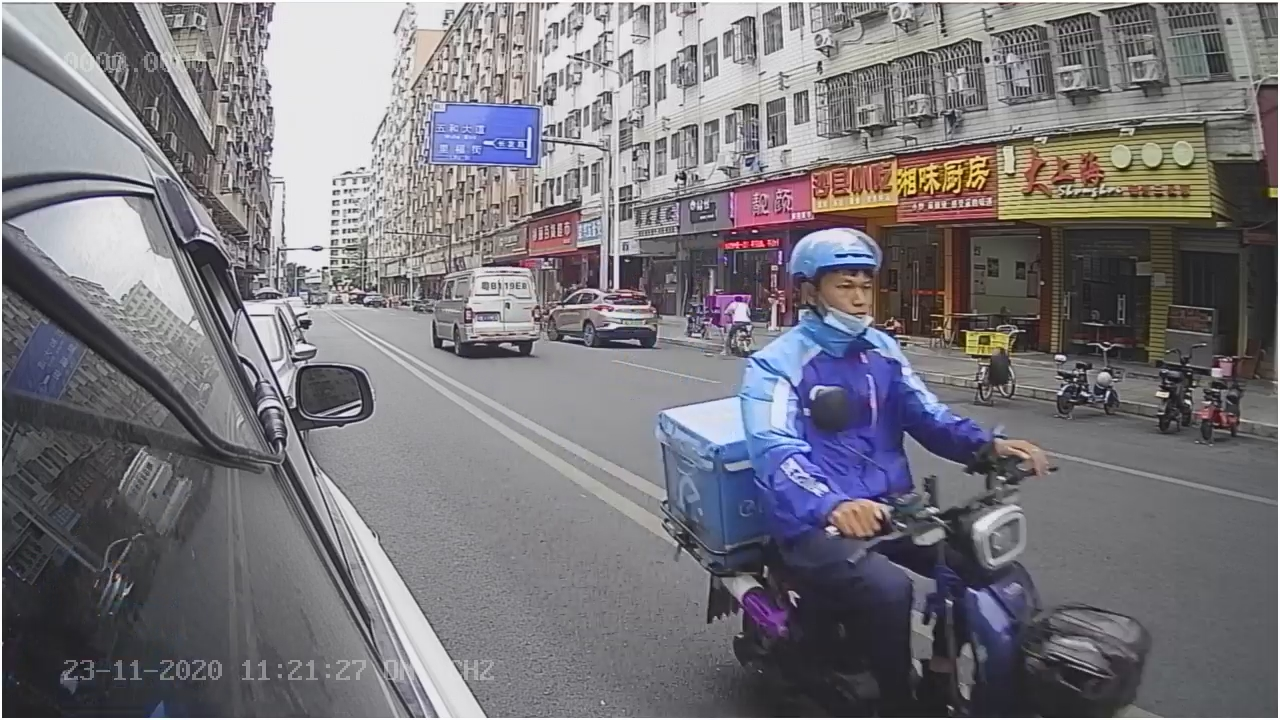person: (736, 228, 1050, 480)
